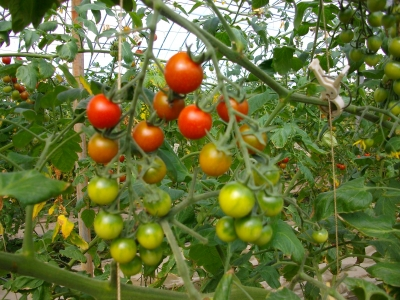stems: (103, 109, 132, 135), (110, 74, 138, 100), (234, 109, 259, 130), (201, 83, 221, 109), (105, 146, 124, 173), (245, 144, 269, 164), (255, 168, 271, 193), (222, 76, 241, 96), (220, 118, 233, 146), (132, 138, 148, 160), (194, 48, 214, 65), (142, 91, 154, 115), (243, 168, 251, 185)
tomato: (164, 51, 203, 93), (175, 102, 214, 141), (218, 180, 255, 217), (87, 93, 122, 130), (152, 85, 186, 121), (198, 141, 233, 175), (236, 122, 268, 156), (215, 92, 250, 123), (133, 121, 165, 154), (86, 173, 119, 204), (85, 133, 119, 163), (92, 209, 123, 241), (254, 186, 286, 217), (136, 155, 166, 184), (143, 187, 172, 217), (135, 220, 165, 249), (234, 212, 261, 242), (109, 236, 137, 262), (253, 163, 281, 189), (216, 215, 238, 245), (250, 218, 272, 247), (137, 247, 164, 267), (116, 260, 144, 274)
